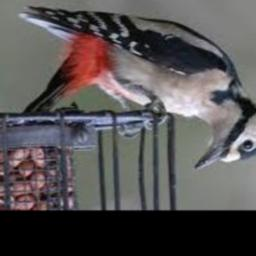Woodpecker: (19, 6, 256, 169)
